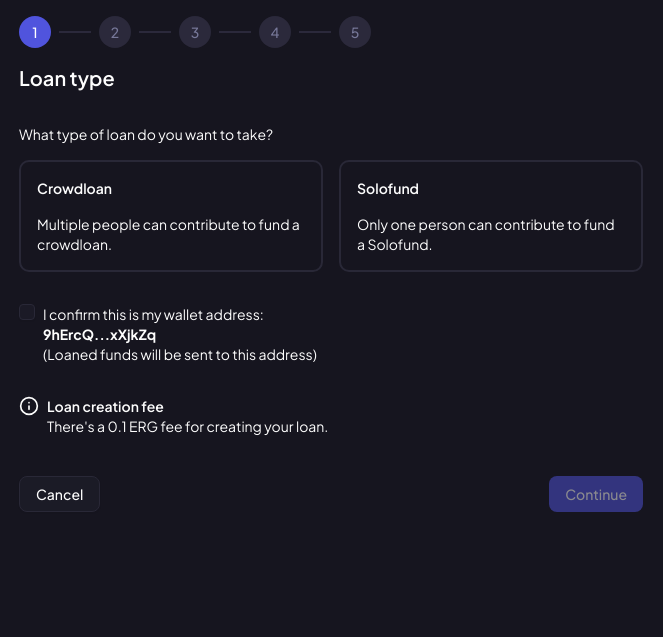
Test case: LoanStepper › Step 2 - Loan Details › should proceed to step 3 when fields are filled
Click the text "Solofund" at (388, 188), box [357,179,419,197]
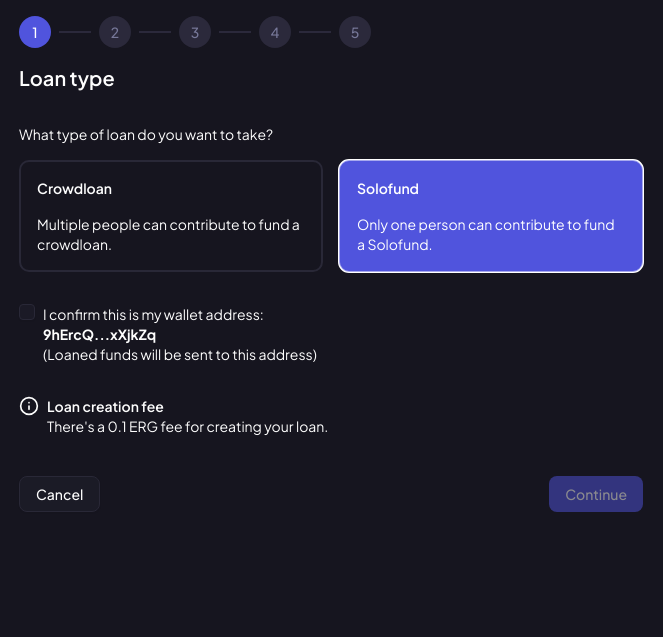
Click the checkbox at (27, 312), box [19,304,35,320]
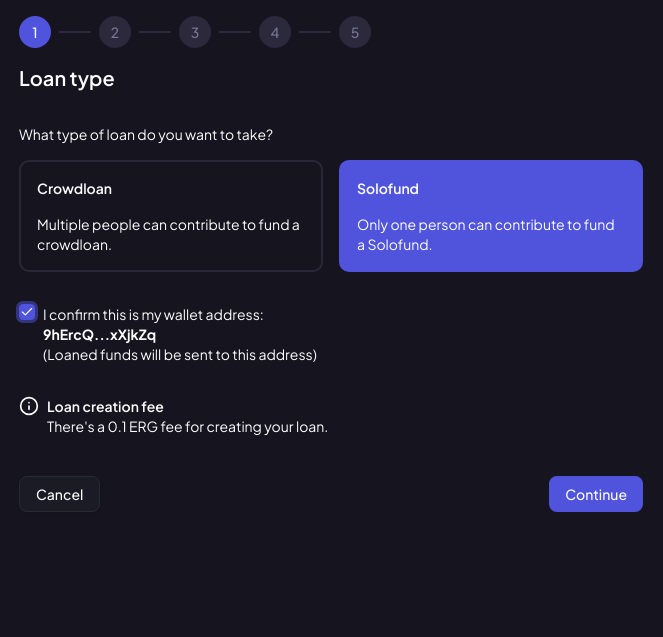
Click the button "Continue" at (596, 494), box [549,476,643,512]
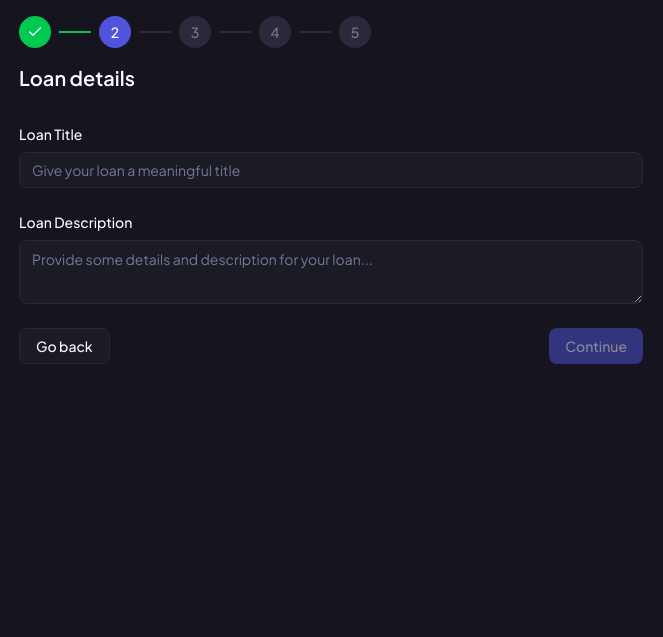
Type "Test Loan" into the field labelled "Loan Title" at (331, 170), box [19,152,643,188]
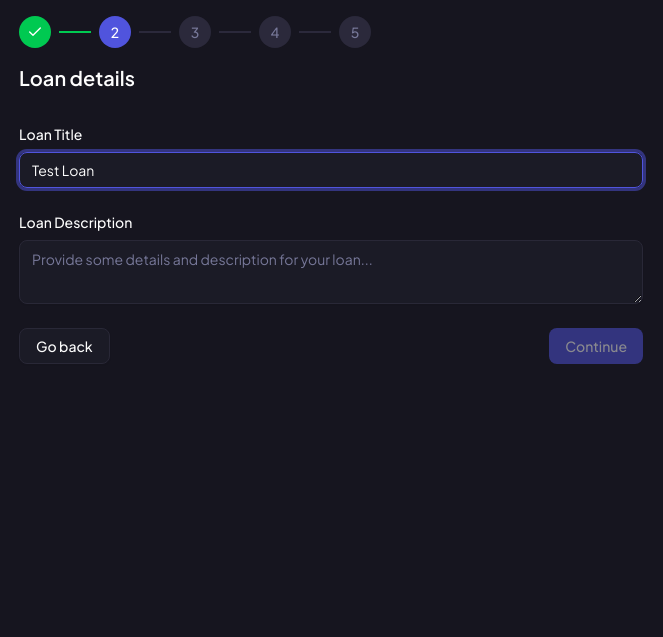
Type "Test Description" into the text box labelled "Loan Description" at (331, 272), box [19,240,643,304]
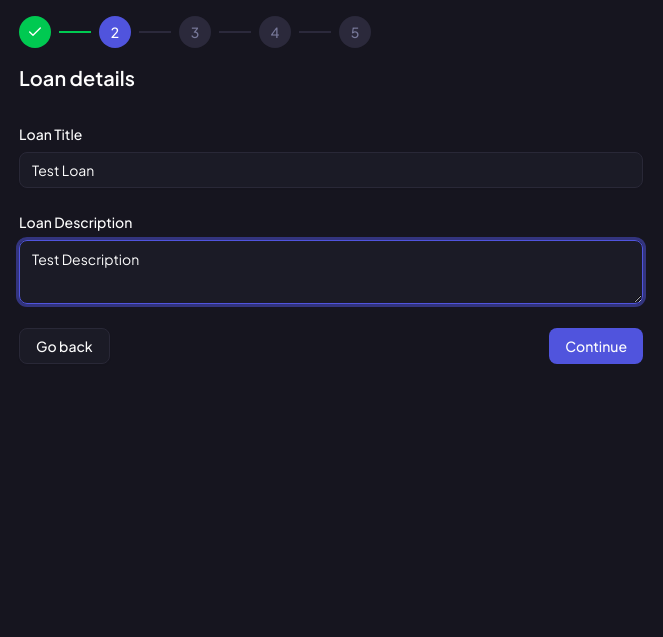
Click the button "Continue" at (596, 346), box [549,328,643,364]
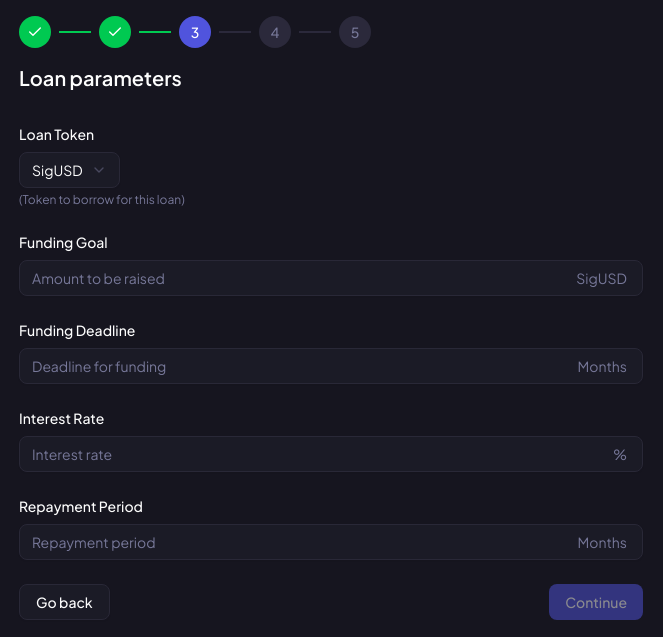
expect the heading "Loan parameters" is shown: met, box [19,65,182,90]
